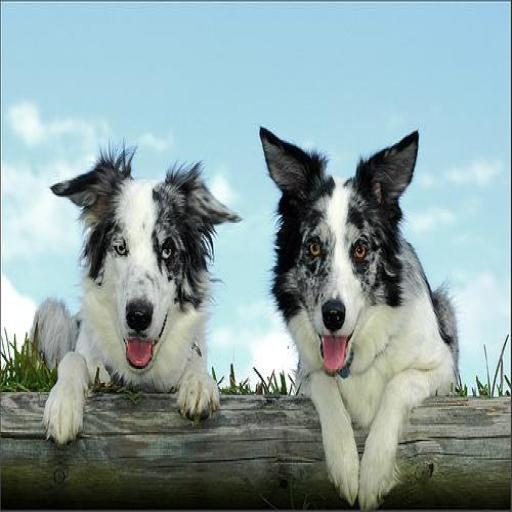dog_face: (257, 118, 424, 396), (65, 157, 248, 366)
